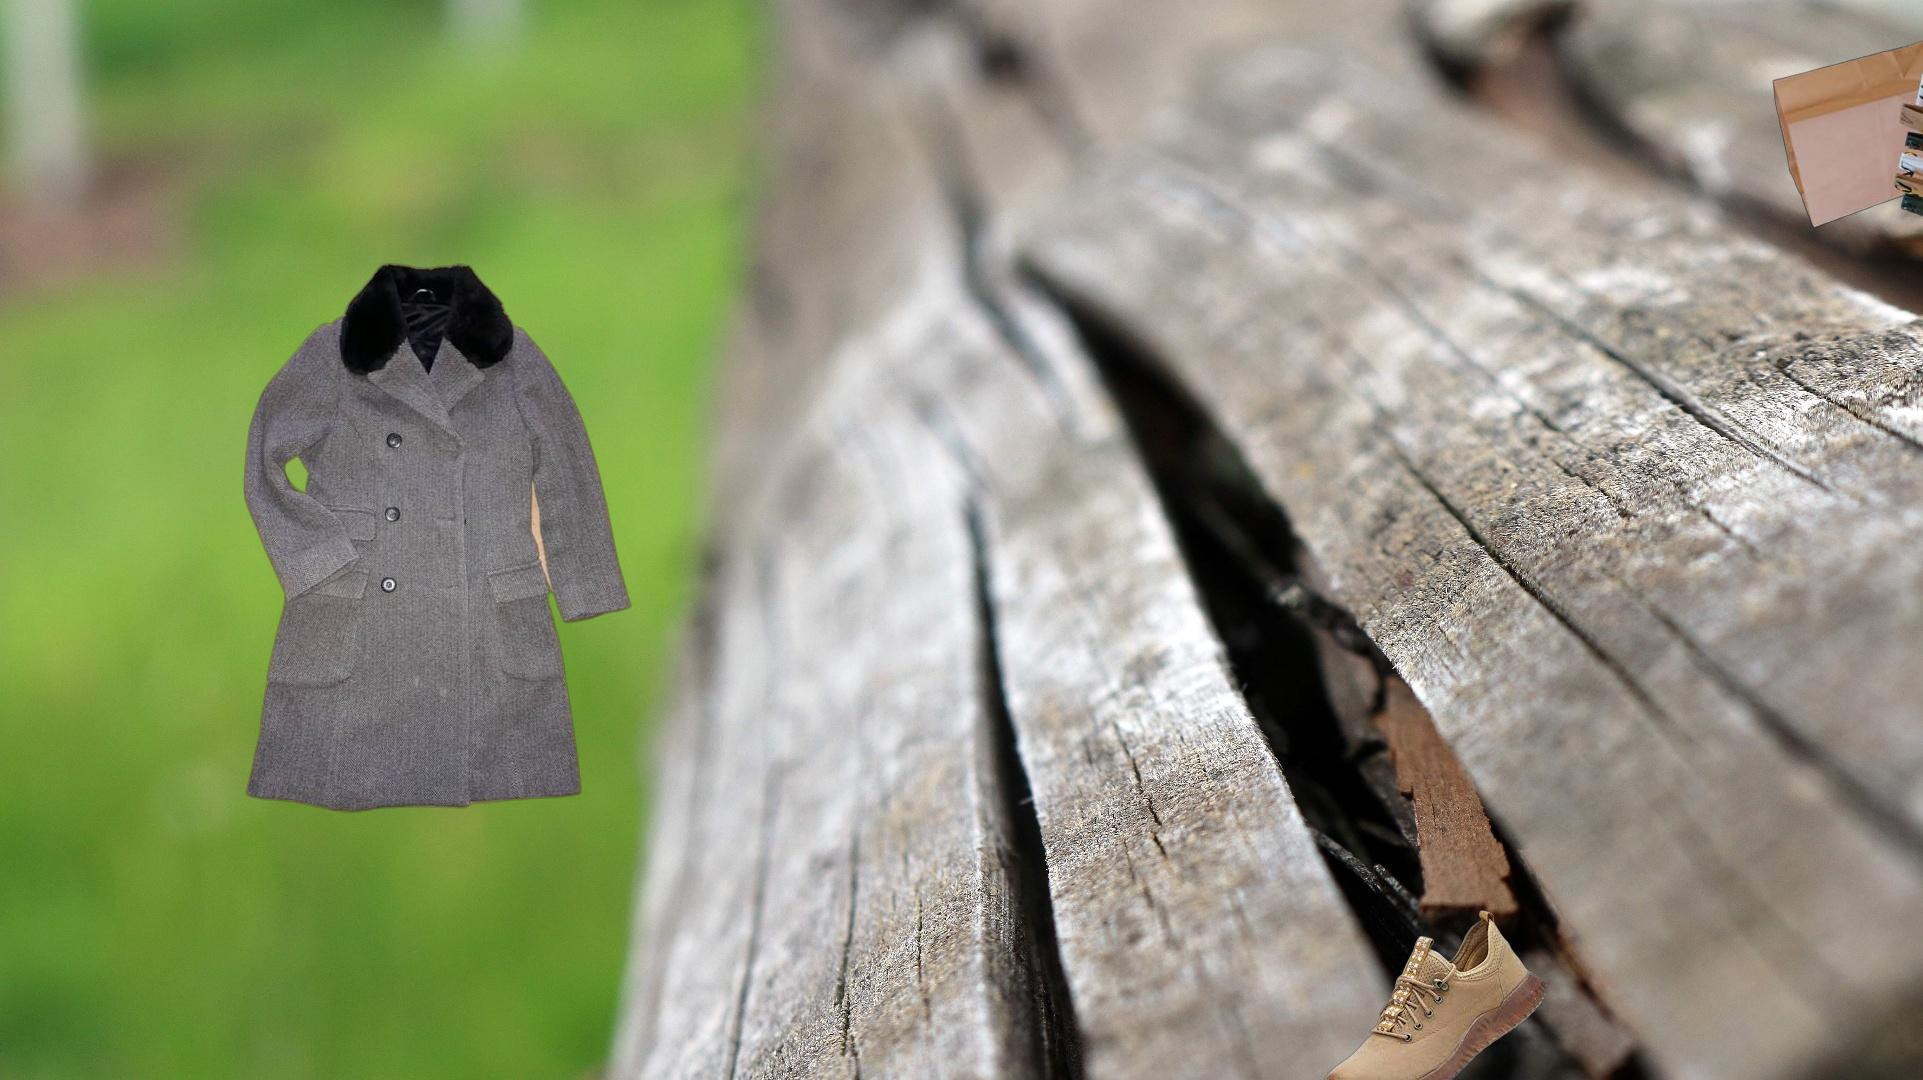clothes: (240, 257, 635, 815)
paper-bag: (1770, 38, 1923, 228)
shoes: (1319, 908, 1548, 1080)
